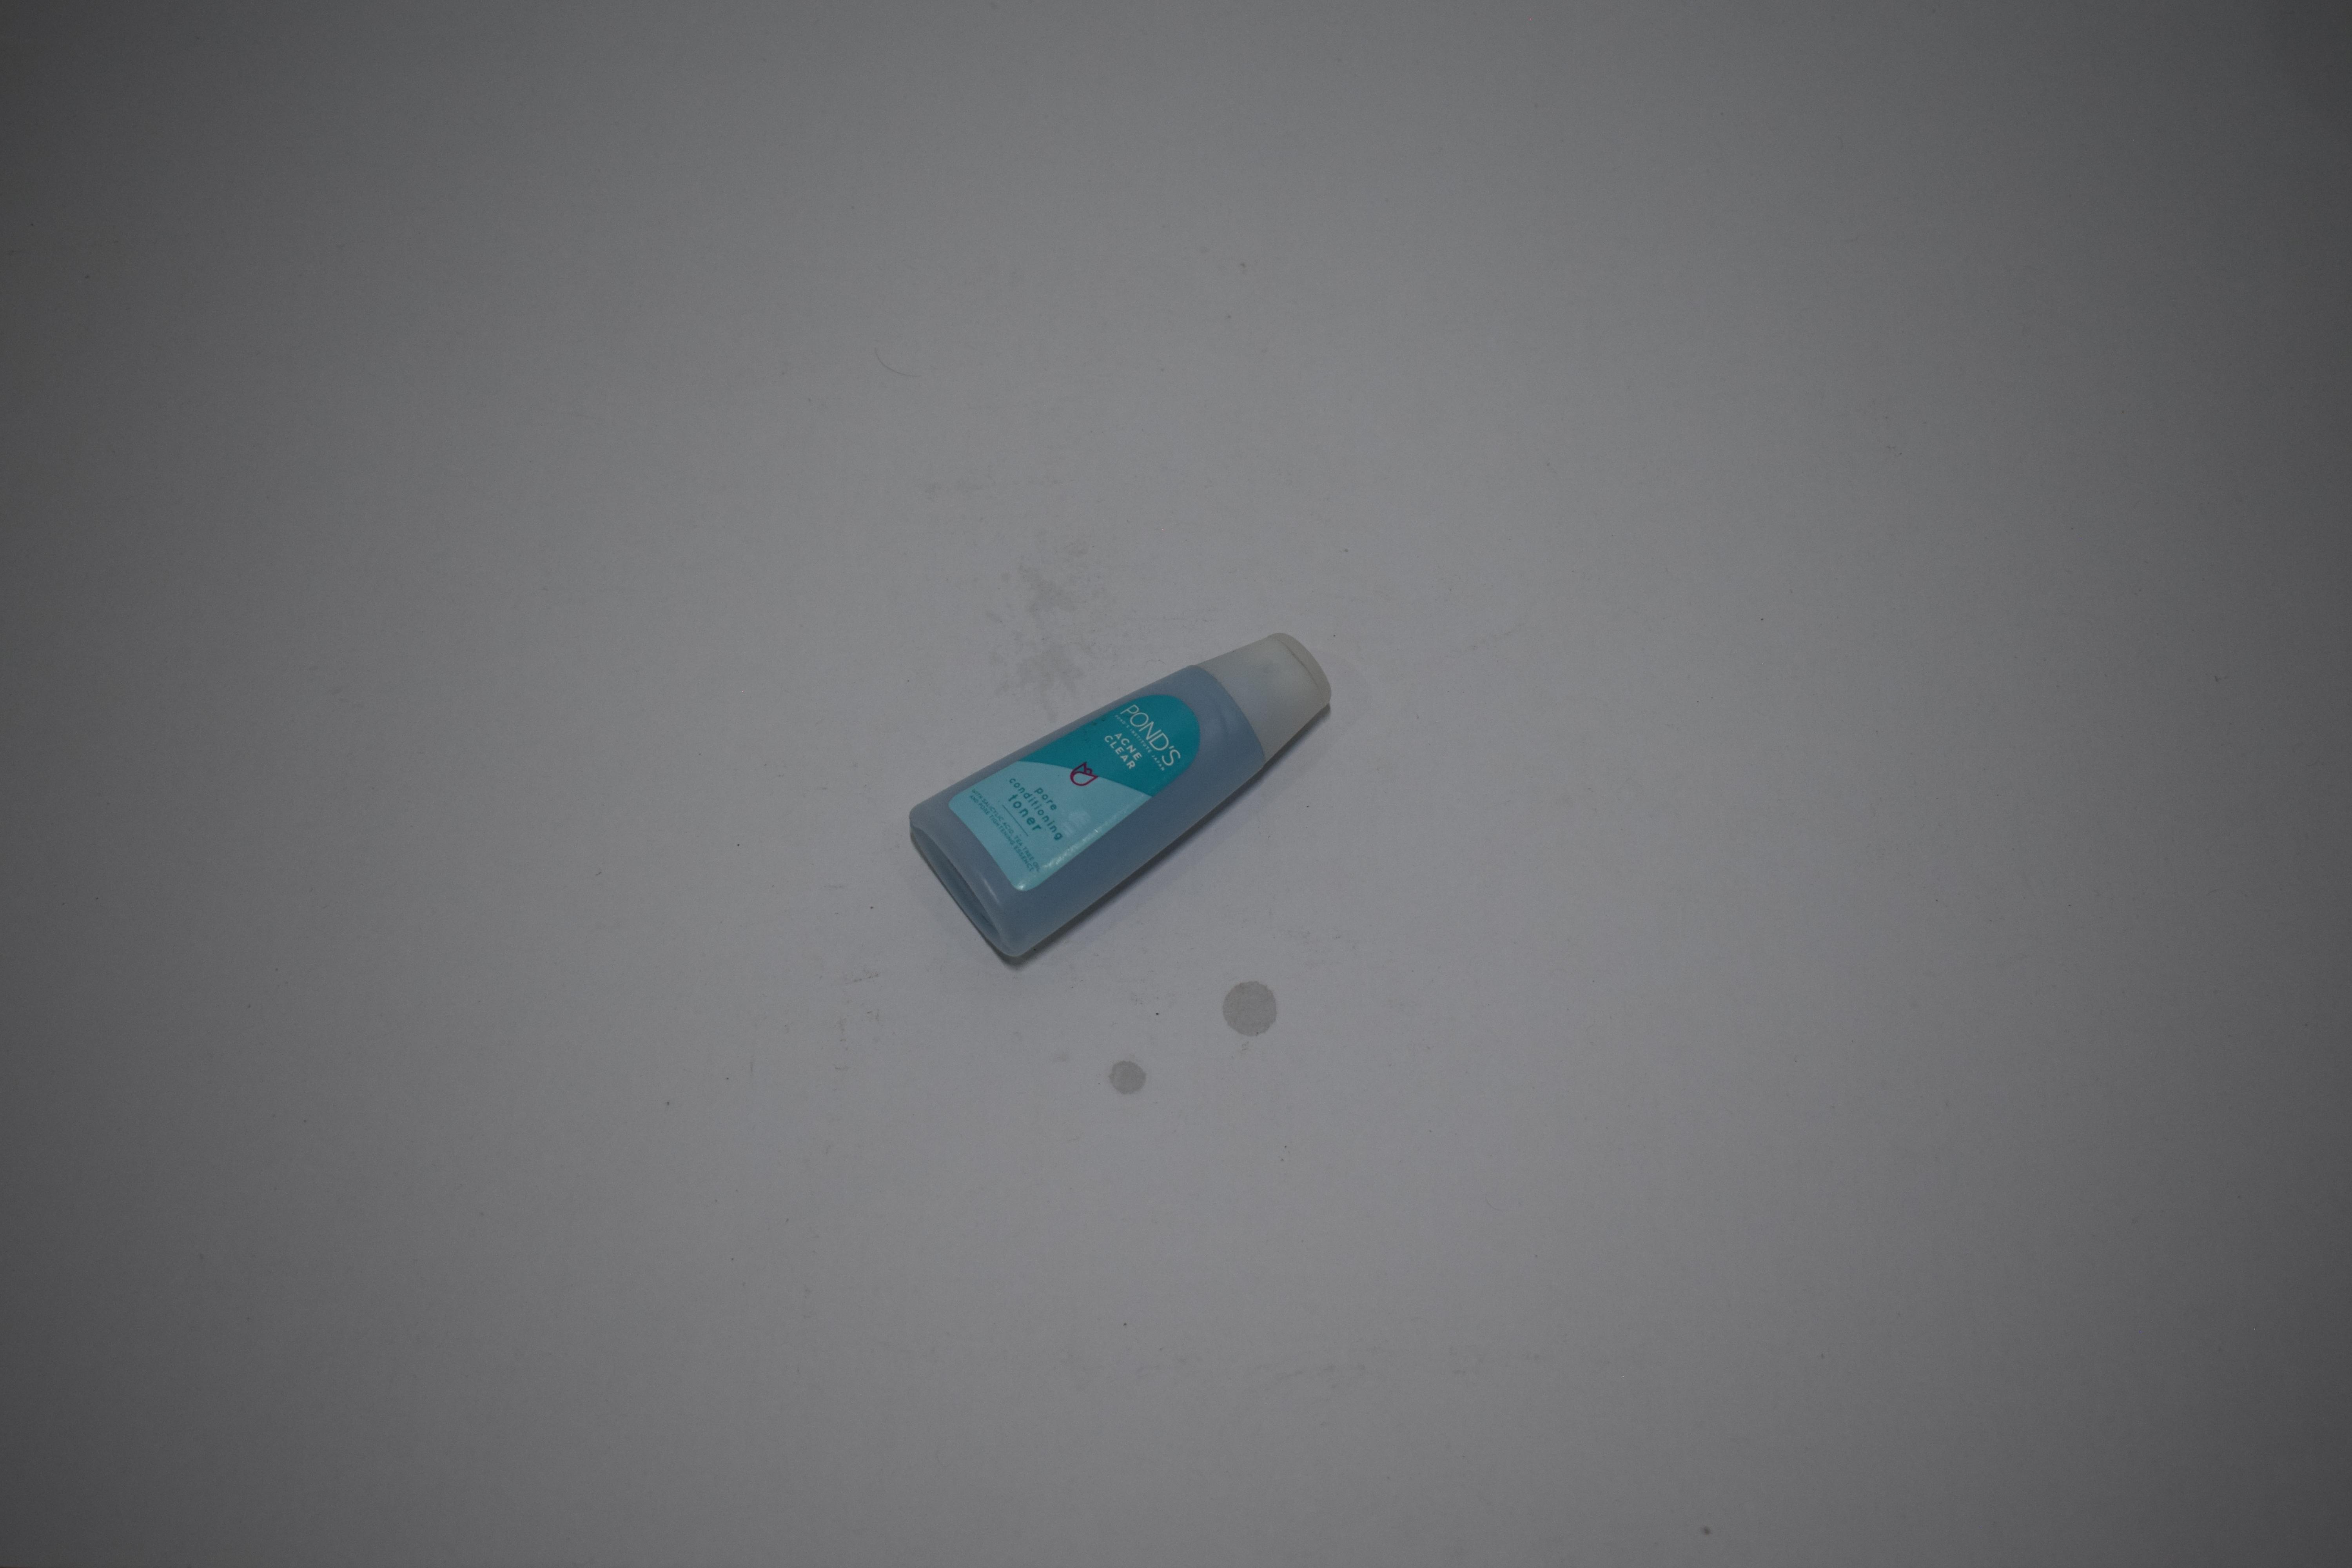bottle: (905, 0, 1337, 187)
